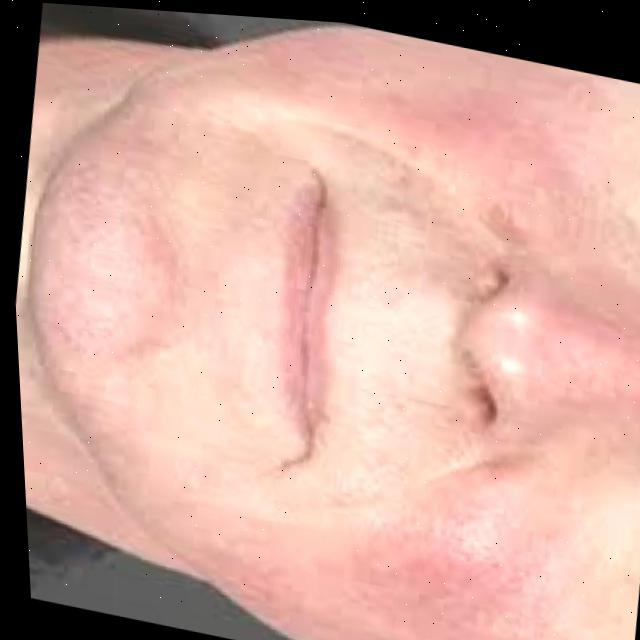Rosacea: (257, 32, 578, 193), (347, 508, 556, 640)
